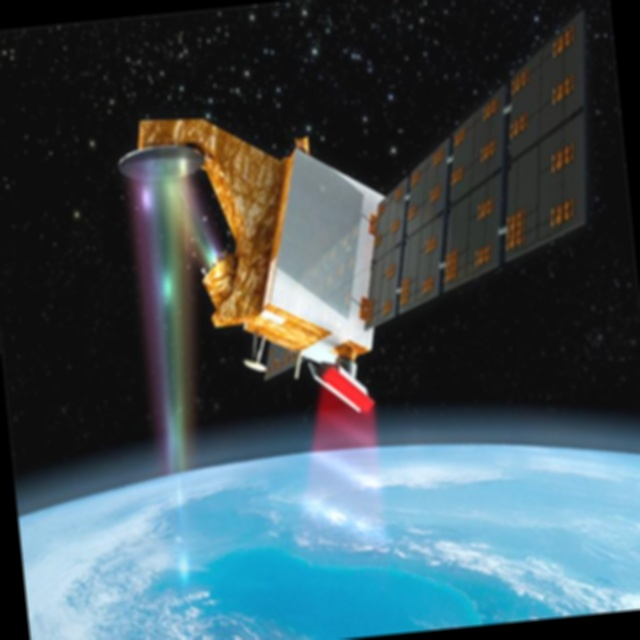medium_debris: (98, 0, 628, 453)
